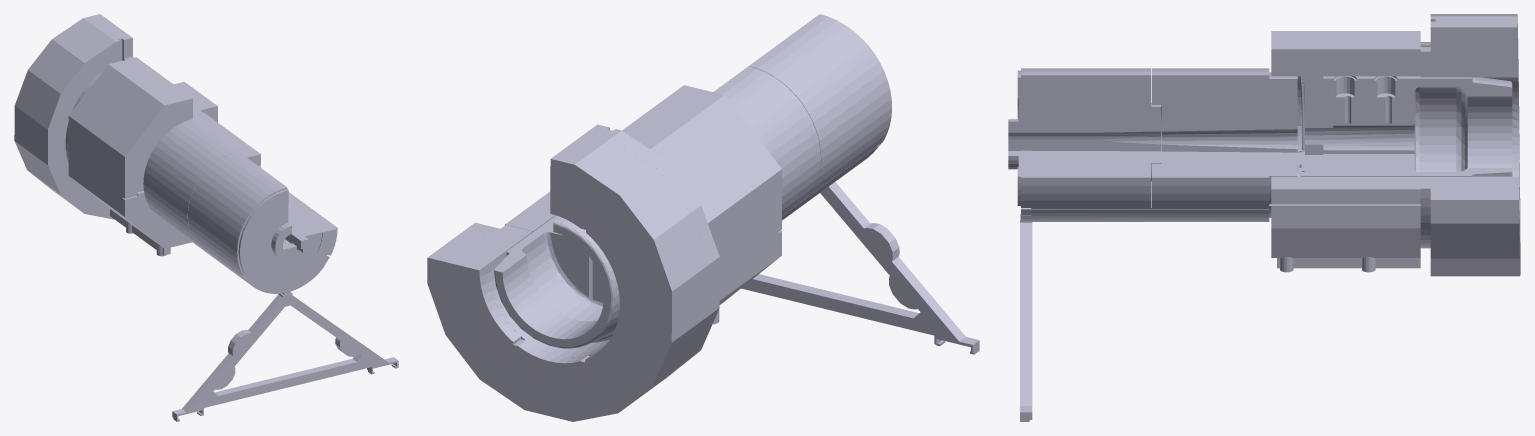
The model's file is Forward-Shielding-SideC-cut3.glb.
3 renders of one model, left to right at view 1: azimuth 30°, elevation 25°; view 2: azimuth 150°, elevation 25°; view 3: azimuth 270°, elevation 25°, orthographic. The views are drawn at different scales.
Parts seen in each view (by area): view 1: null; view 2: null; view 3: null.
Boxes of the visible parts, x1,y1,x2,y2 form: null: [14, 14, 398, 421]; null: [427, 14, 979, 421]; null: [1008, 14, 1520, 421].
Size of the model in its own units: 6.83 by 7.18 by 10.31.
